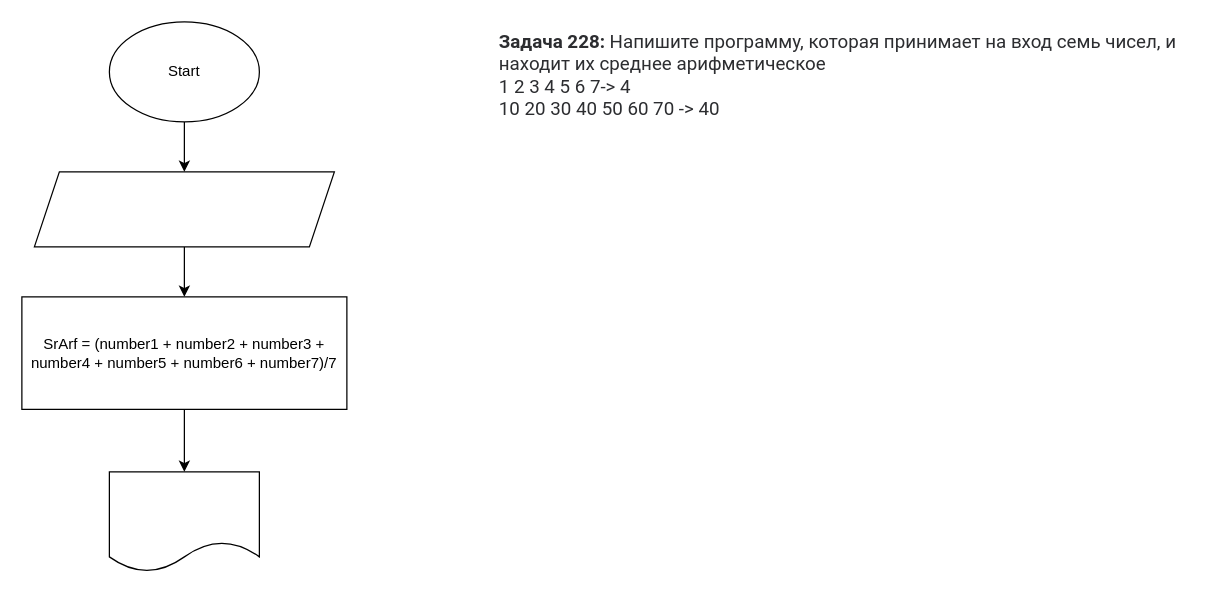
Some shapes in this 1206 by 594 pixel diagram are drawn without their labels. Each missing label, with the centre of its shape:
"SrArf" belongs at pixel 183 521.
"Введите числа: number1, number2, number3, number4, number5, number6, number7" belongs at pixel 183 209.
